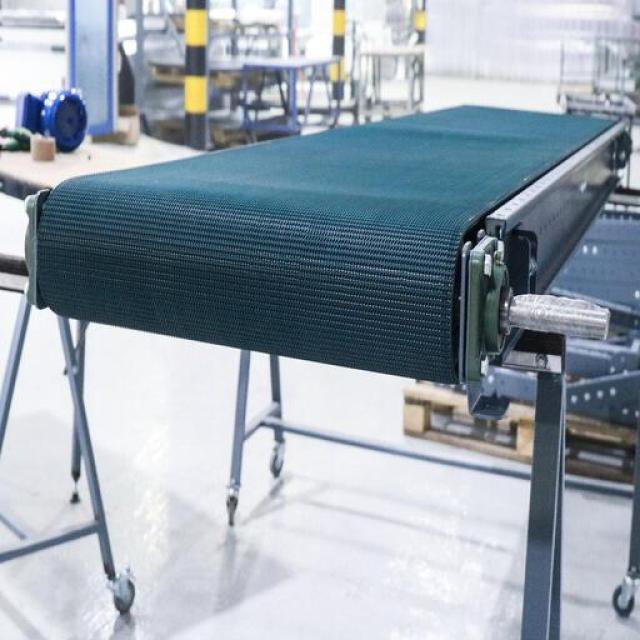conveyor: (41, 105, 622, 386)
